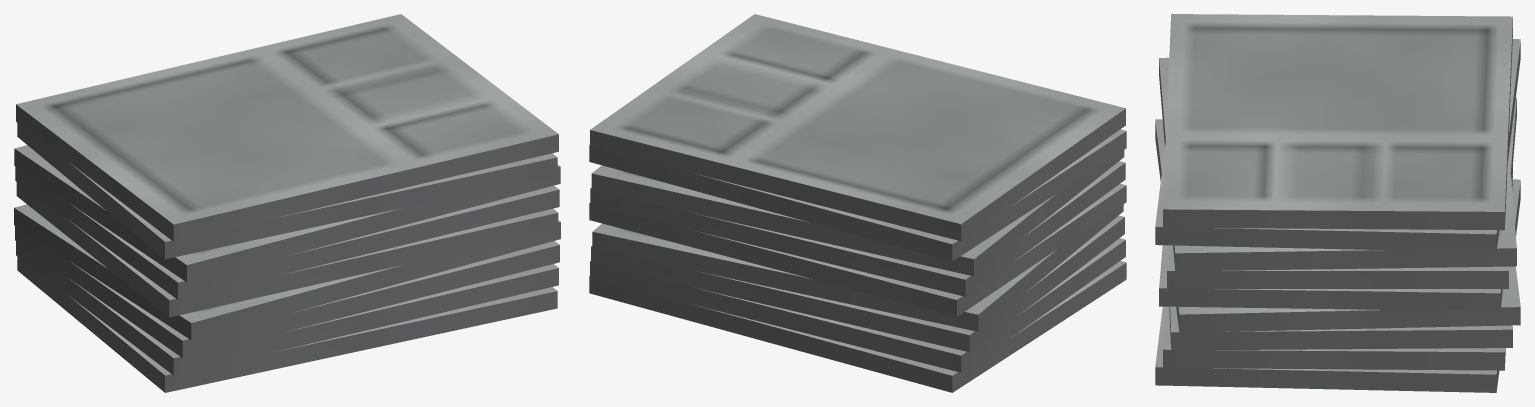
The model's file is tray_stack.fbx.
The picture shows the model from 3 angles, left to right: view 1: azimuth 30°, elevation 25°; view 2: azimuth 150°, elevation 25°; view 3: azimuth 270°, elevation 25°; orthographic projection. The views are drawn at different scales.
Parts seen in each view (by area): view 1: tray_stack; view 2: tray_stack; view 3: tray_stack.
Part boxes in pixels (left/top/right/bottom): tray_stack: left=14, top=14, right=560, bottom=392; tray_stack: left=589, top=14, right=1126, bottom=392; tray_stack: left=1155, top=14, right=1520, bottom=392.
Bounding box in the file's own units: 0.4772 × 0.196 × 0.3636.
Materials: 1 (1 with a texture image).
